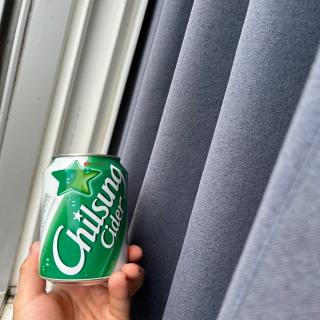cocacola: (36, 153, 130, 289)
